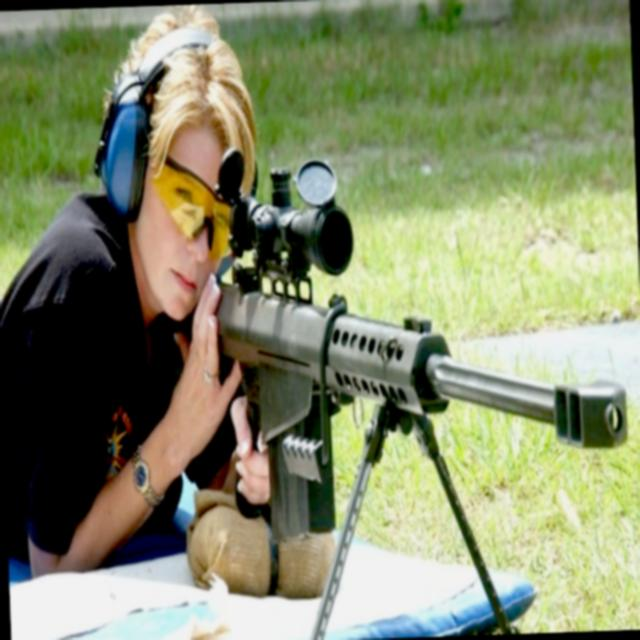rifle: (196, 135, 640, 640)
